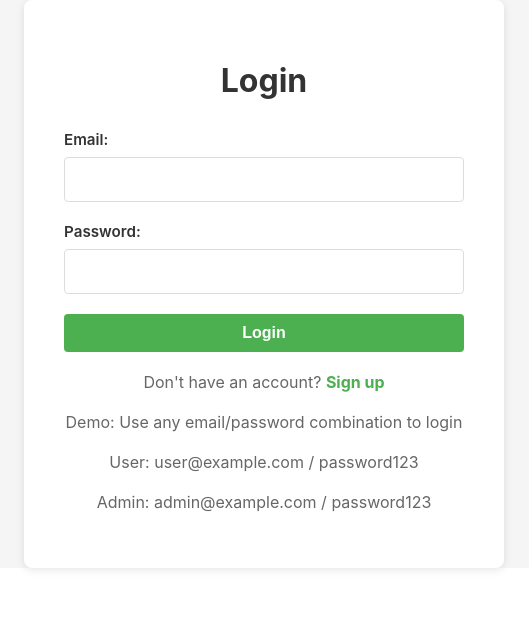
LoginPage › Negative Scenarios › shows validation error when email is empty but password is filled
The width and height of the screenshot is (529, 643).
Type "password123" into the password field labelled "Password:".
click(264, 272); type("password123")  # box [64,249,464,294]
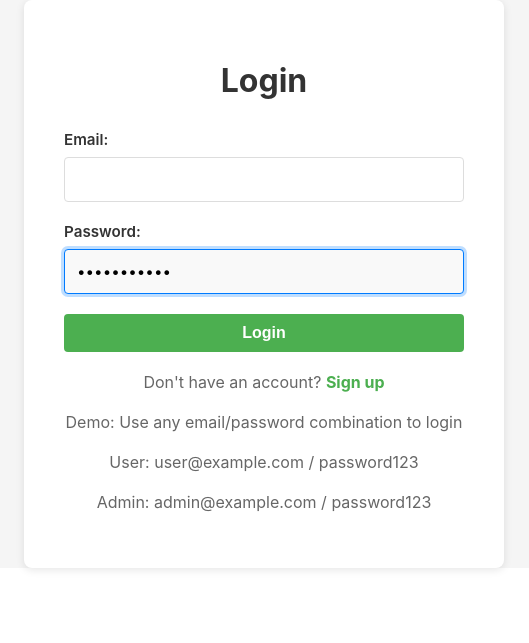
Submit the form "Email: Password: Login", box [64,130,464,352]
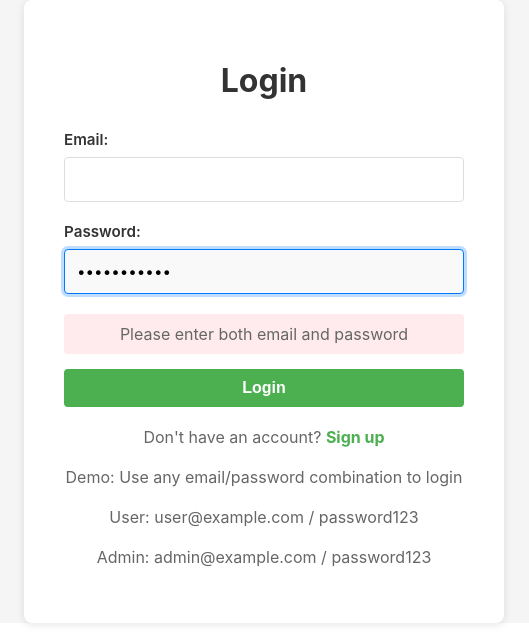
Now the text "Please enter both email and password" is shown, box [64,314,464,354]
